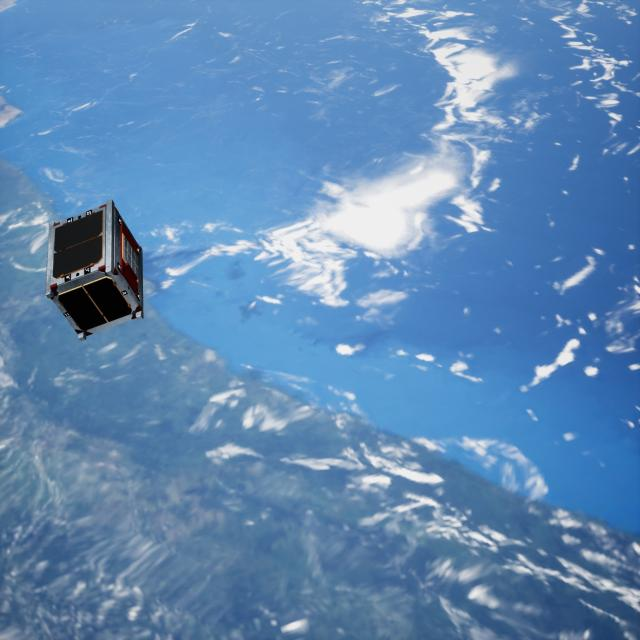medium_debris: (39, 200, 156, 341)
